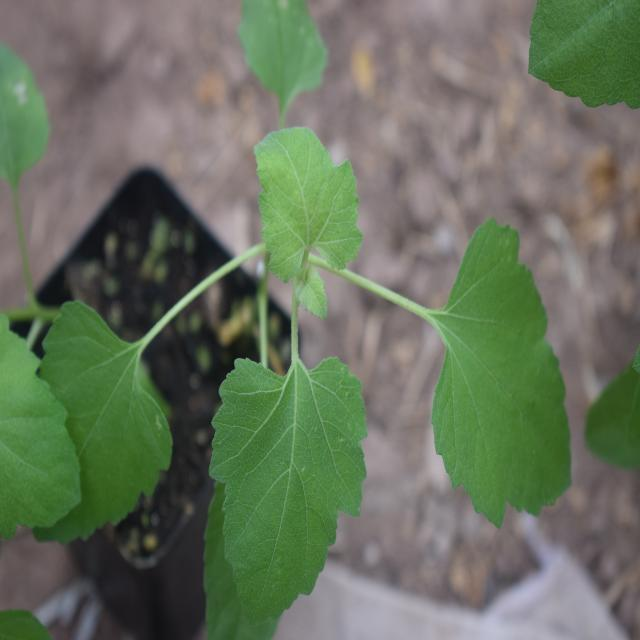cocklebur: (43, 105, 566, 600)
